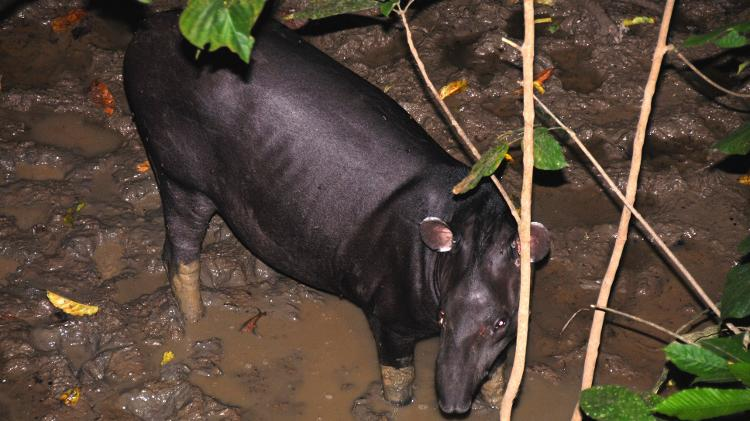Anta: (107, 9, 557, 419)
